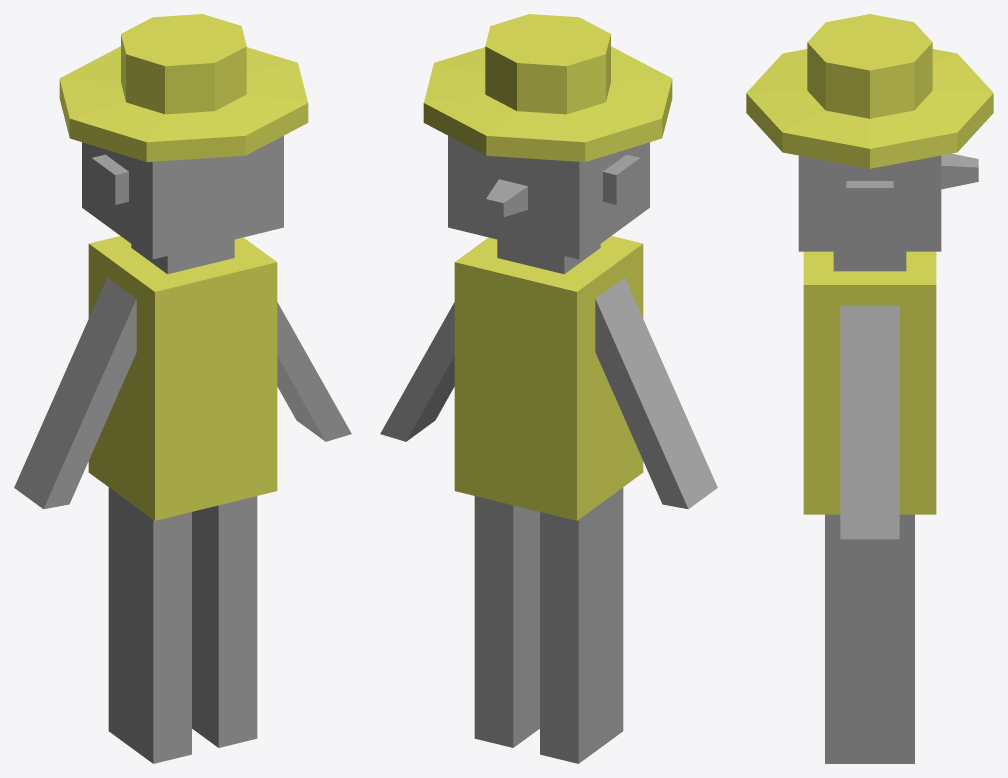
Rendered from Asset_NPC_Low_3.fbx.
3 views of the same model, side by side, from view 1: azimuth 30°, elevation 25°; view 2: azimuth 150°, elevation 25°; view 3: azimuth 270°, elevation 25° (orthographic).
Visible parts, largest first — view 1: NPC_3; view 2: NPC_3; view 3: NPC_3.
Boxes of the visible parts, left/top/right/bottom form: NPC_3: left=14, top=14, right=351, bottom=763; NPC_3: left=380, top=14, right=717, bottom=763; NPC_3: left=746, top=14, right=993, bottom=763.
Size of the model in its own units: 0.7415 by 1.6 by 0.5136.
